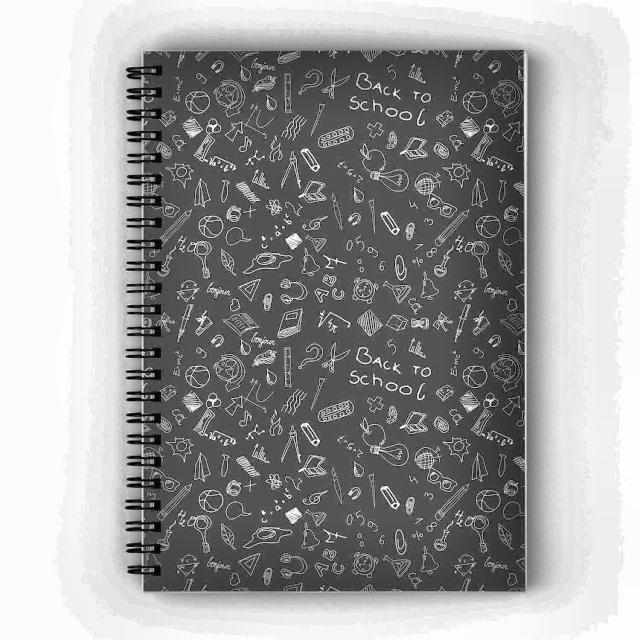Notebook: (111, 29, 539, 614)
